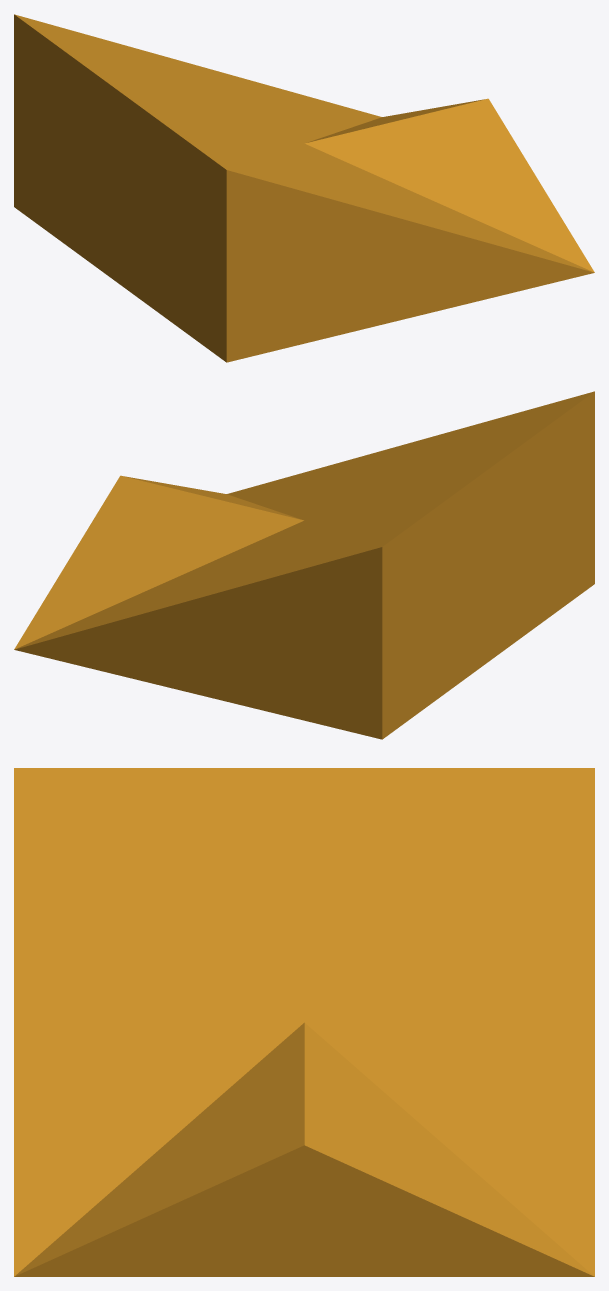
The model's file is Roof-Mid-4x4x2-Gable-Decorative-Straight.FBX.
The picture shows the model from 3 angles, top to bottom: view 1: azimuth 30°, elevation 25°; view 2: azimuth 150°, elevation 25°; view 3: azimuth 270°, elevation 25°; orthographic projection. The views are drawn at different scales.
Visible parts, largest first — view 1: Roof-Mid-4x4x2-Gable-Decorative-Straight; view 2: Roof-Mid-4x4x2-Gable-Decorative-Straight; view 3: Roof-Mid-4x4x2-Gable-Decorative-Straight.
Part boxes in pixels (x1,y1,x2,y2): Roof-Mid-4x4x2-Gable-Decorative-Straight: [14, 14, 594, 362]; Roof-Mid-4x4x2-Gable-Decorative-Straight: [14, 391, 594, 739]; Roof-Mid-4x4x2-Gable-Decorative-Straight: [14, 768, 594, 1276].
Bounding box in the file's own units: 40 × 40 × 20.
